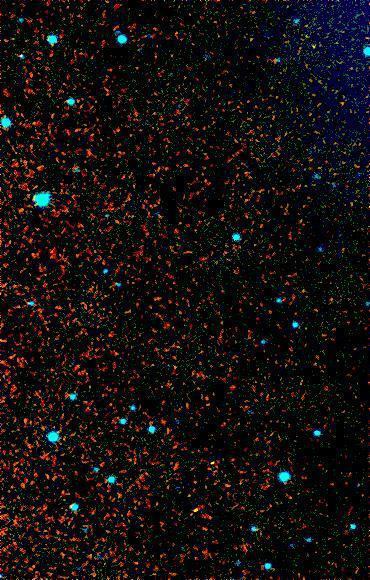star: (300, 31, 330, 61)
